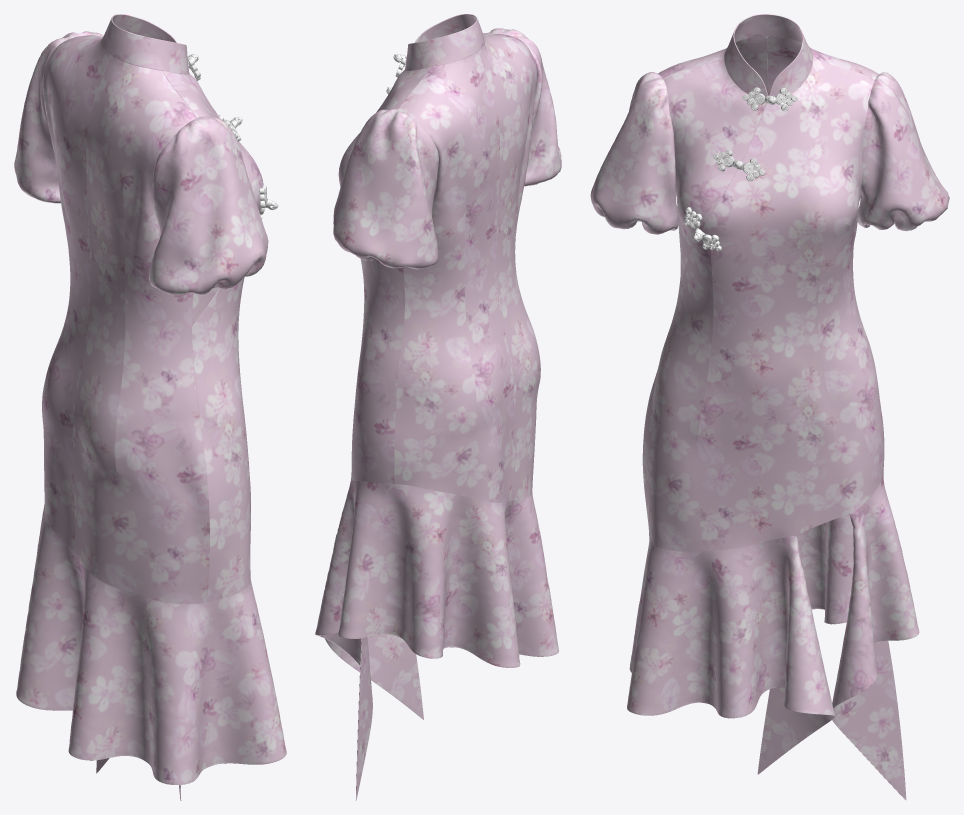
File: pink_floral_cheongsam.glb
3 views of the same model, side by side, from view 1: azimuth 30°, elevation 25°; view 2: azimuth 150°, elevation 25°; view 3: azimuth 270°, elevation 25° (orthographic). The views are drawn at different scales.
Parts seen in each view (by area): view 1: Object_10, Object_5, Object_9, Object_11, Object_6, Object_7; view 2: Object_5, Object_11, Object_7, Object_10, Object_6, Object_9; view 3: Object_6, Object_5, Object_7, Object_9, Object_11, Object_10, Object_3, Object_2, Object_4.
Part boxes in pixels (x1,y1,x2,y2): Object_10: [73, 55, 210, 603]; Object_5: [16, 504, 286, 800]; Object_9: [101, 14, 268, 295]; Object_11: [42, 35, 109, 552]; Object_6: [95, 35, 263, 601]; Object_7: [14, 31, 263, 326]; Object_5: [315, 480, 558, 800]; Object_11: [394, 51, 513, 502]; Object_7: [333, 33, 498, 269]; Object_10: [478, 34, 540, 501]; Object_6: [338, 67, 428, 483]; Object_9: [405, 14, 561, 186]; Object_6: [642, 57, 884, 551]; Object_5: [627, 472, 919, 800]; Object_7: [663, 56, 949, 278]; Object_9: [590, 14, 813, 234]; Object_11: [767, 36, 878, 95]; Object_10: [658, 36, 767, 92]; Object_3: [713, 149, 764, 181]; Object_2: [742, 87, 797, 111]; Object_4: [684, 207, 721, 251].
Size of the model in its own units: 336 by 1216 by 519.
2 materials, 1 textured.
